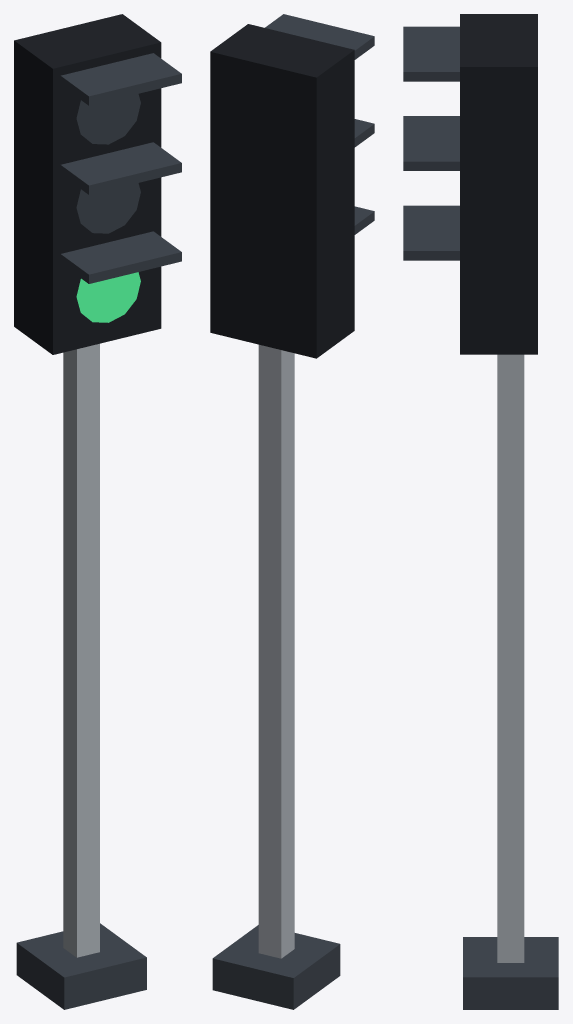
Rendered from traffic-light.glb.
The picture shows the model from 3 angles, left to right: view 1: azimuth 30°, elevation 25°; view 2: azimuth 150°, elevation 25°; view 3: azimuth 270°, elevation 25°; orthographic projection. The views are drawn at different scales.
Parts seen in each view (by area): view 1: TrafficLight, traffic-light-base, traffic-lens-1, traffic-lens-2, traffic-lens-0; view 2: TrafficLight, traffic-light-base; view 3: TrafficLight, traffic-light-base.
Part boxes in pixels (x1,y1,x2,y2): TrafficLight: (14, 14, 181, 957); traffic-light-base: (16, 923, 146, 1009); traffic-lens-1: (76, 183, 140, 233); traffic-lens-2: (76, 272, 140, 322); traffic-lens-0: (76, 94, 140, 144); TrafficLight: (210, 14, 374, 958); traffic-light-base: (212, 925, 340, 1009); TrafficLight: (403, 14, 537, 962); traffic-light-base: (463, 937, 558, 1009).
Bounding box in the file's own units: 0.42 × 3.5 × 0.52.
